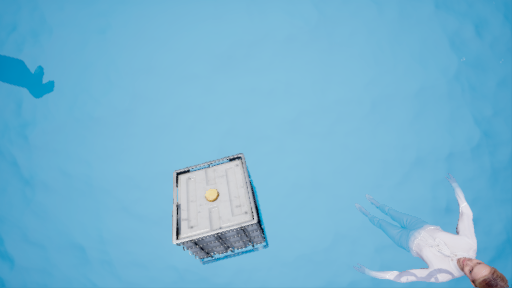person: (360, 190, 511, 288)
